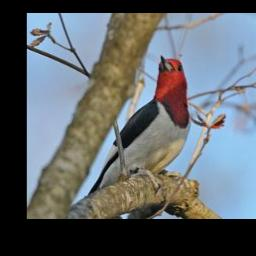Woodpecker: (80, 47, 196, 213)
